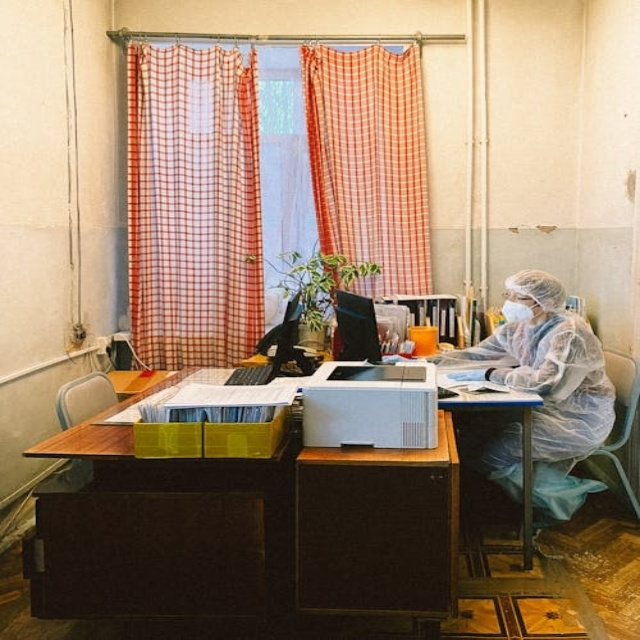Gafas: (502, 292, 534, 302)
Guantes: (447, 369, 489, 382)
Mascara: (501, 300, 537, 323)
